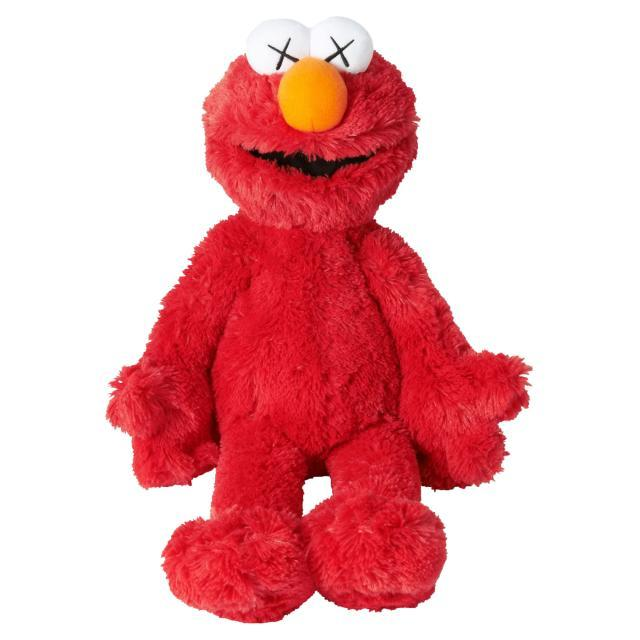soft-toy: (108, 18, 529, 622)
